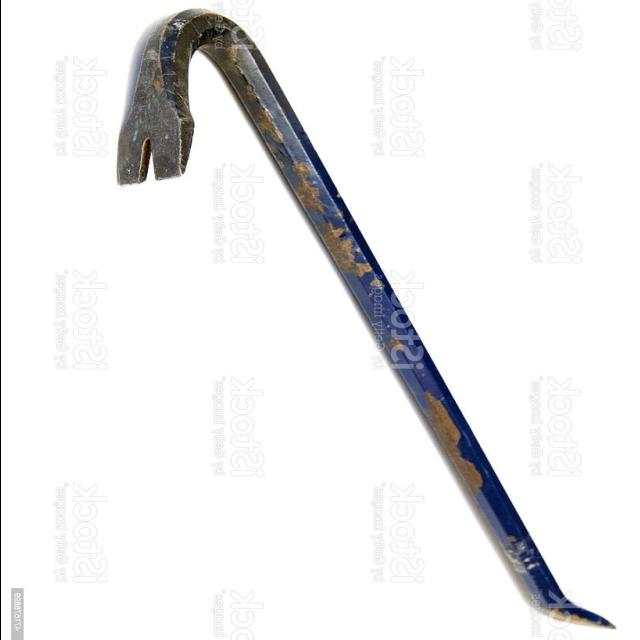Linggis: (113, 10, 621, 631)
